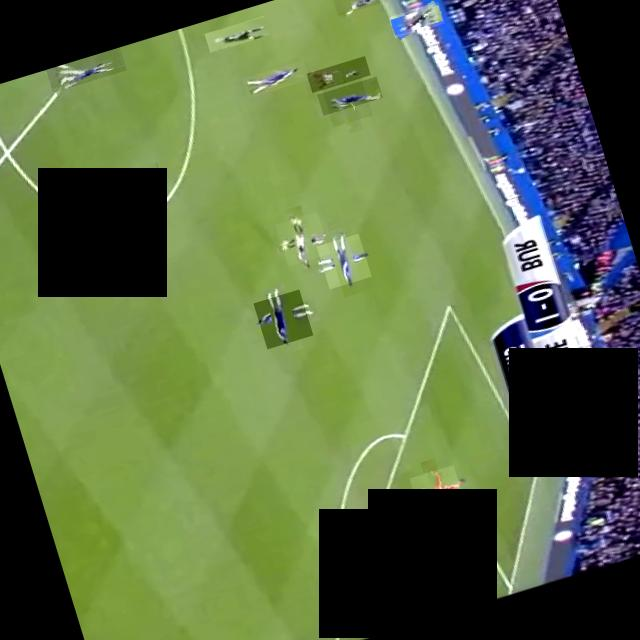goalkeeper: (408, 464, 465, 522)
referee: (203, 15, 268, 52), (388, 2, 443, 38)
soccer-player: (80, 162, 162, 208), (44, 48, 126, 92), (252, 289, 312, 349), (316, 233, 370, 290), (274, 212, 329, 266), (316, 76, 382, 115), (321, 77, 372, 127), (241, 60, 308, 98), (305, 55, 369, 92), (332, 0, 386, 16)
